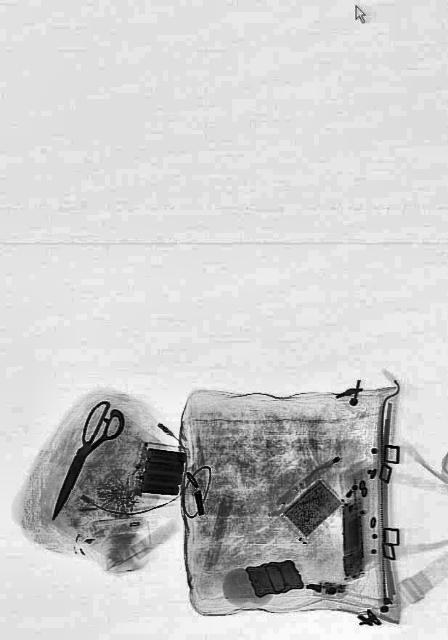Scissors: (39, 393, 127, 533)
